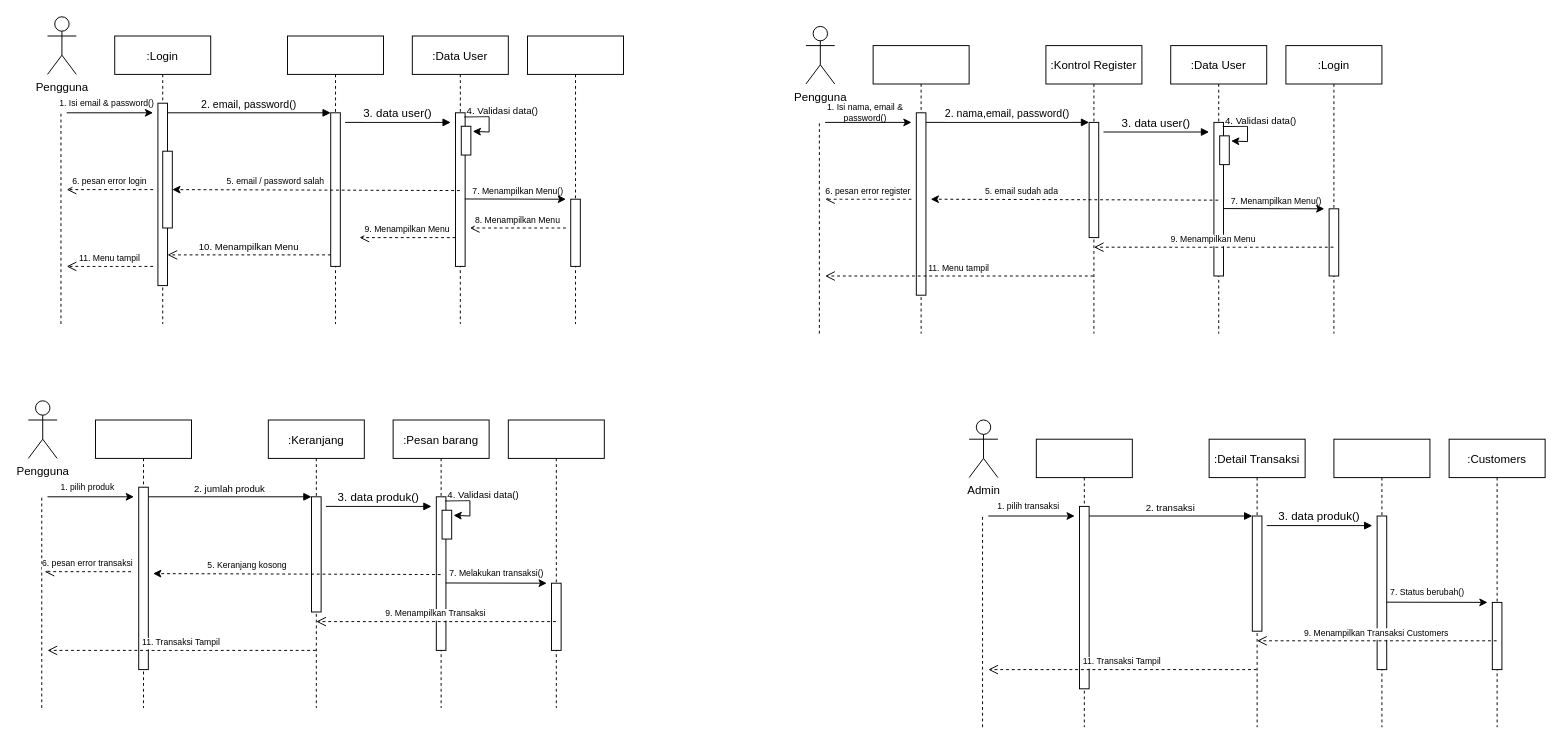
This 1562x745 diagram has some shape labels left out. The shapes that lost their labels are listed below. From the top down, each one's box as (x1, y1, x2, y2) in pixels, then its label:
(287, 35, 384, 324): :Kontrol login
(527, 35, 624, 324): :Menu
(872, 45, 969, 334): :Register
(95, 419, 192, 708): :Gallery Produk
(507, 419, 604, 708): :Transaksi
(1035, 438, 1132, 727): :Dashboard
(1333, 438, 1430, 727): :Update Status
